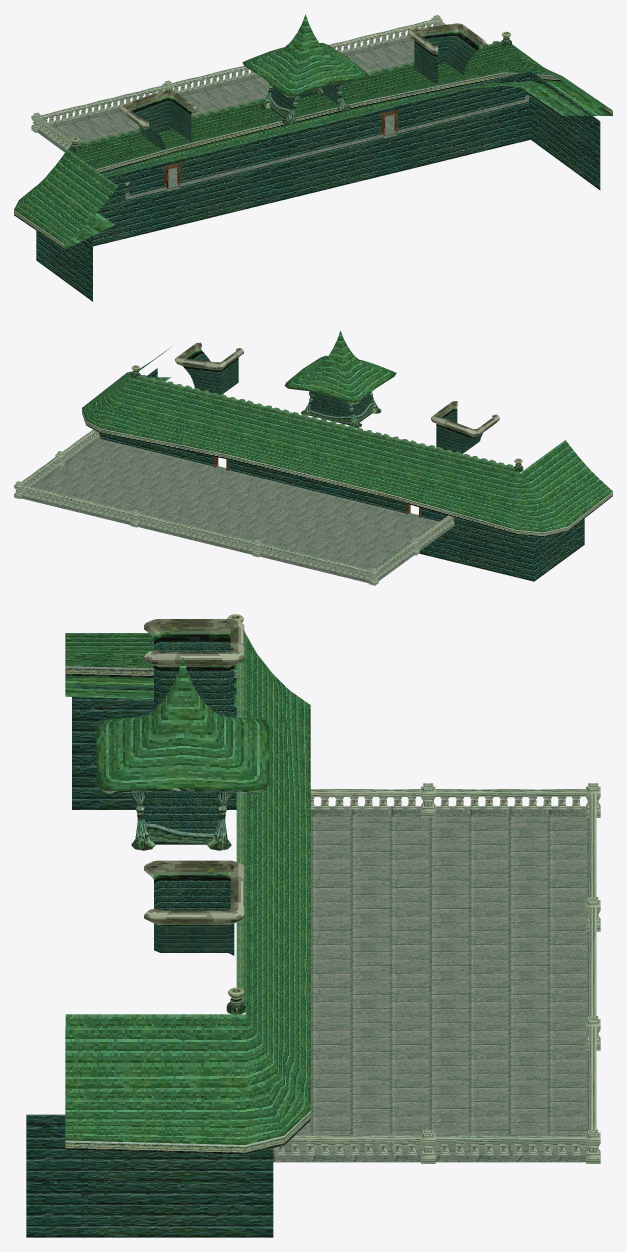
Rendered from room_59.glb.
3 renders of one model, top to bottom at view 1: azimuth 30°, elevation 25°; view 2: azimuth 150°, elevation 25°; view 3: azimuth 270°, elevation 25°, orthographic. The views are drawn at different scales.
Parts seen in each view (by area): view 1: room_59; view 2: room_59; view 3: room_59.
Part boxes in pixels (x1=…): room_59: x1=14, y1=14, x2=612, y2=301; room_59: x1=14, y1=330, x2=612, y2=585; room_59: x1=26, y1=614, x2=600, y2=1237.
Size of the model in its own units: 9094 by 3258 by 4650.
18 materials, 18 textured.
